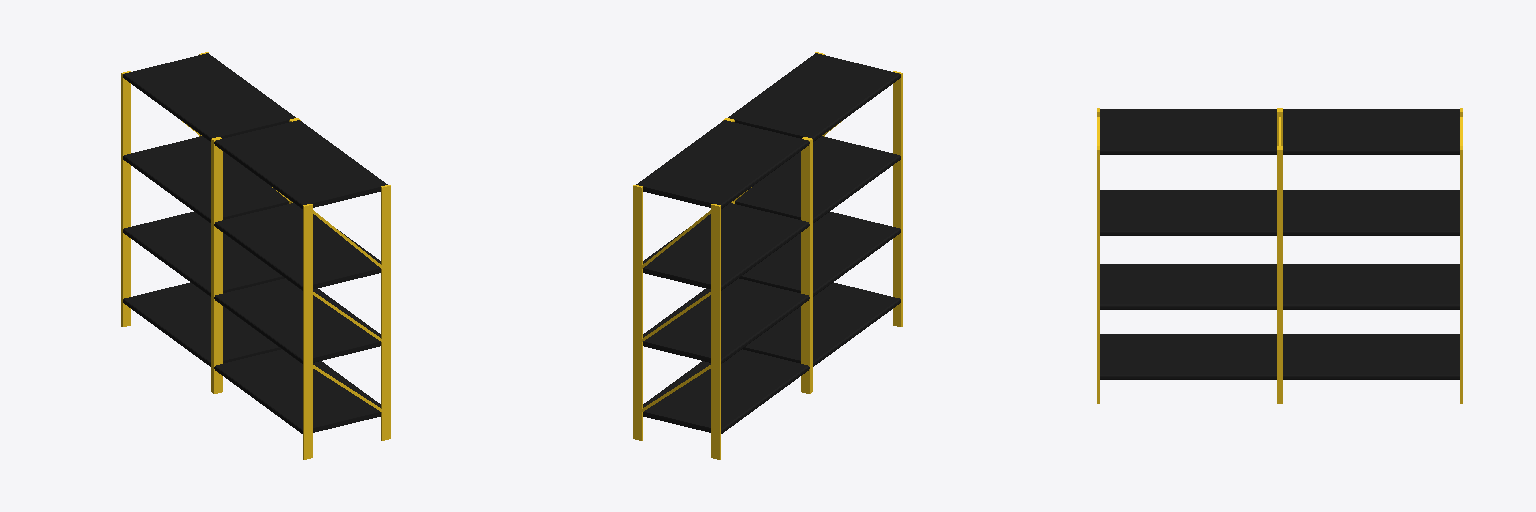
The model's file is Shelf.obj.
The picture shows the model from 3 angles: view 1: azimuth 30°, elevation 25°; view 2: azimuth 150°, elevation 25°; view 3: azimuth 270°, elevation 25°; orthographic projection.
Visible parts, largest first — view 1: Cube.004_Cube.028, Cube.002_Cube.029; view 2: Cube.004_Cube.028, Cube.002_Cube.029; view 3: Cube.004_Cube.028.
Boxes of the visible parts, <box> form: Cube.004_Cube.028: <box>121,52,390,459</box>; Cube.002_Cube.029: <box>182,121,381,411</box>; Cube.004_Cube.028: <box>633,52,902,459</box>; Cube.002_Cube.029: <box>642,121,841,411</box>; Cube.004_Cube.028: <box>1097,108,1462,403</box>.
Size of the model in its own units: 1.11 by 3.11 by 4.06.